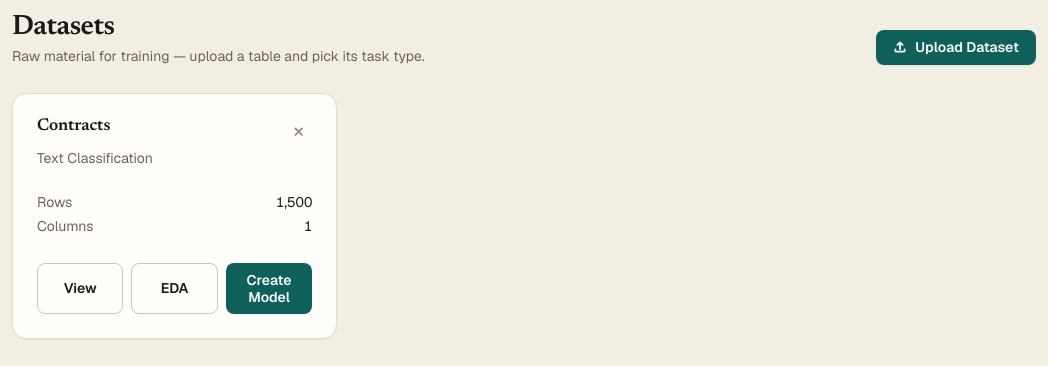
it: DatasetManager › deletes a dataset after inline confirmation
Click the button named "Delete dataset" at (298,132), box x1=284 y1=118 x2=312 y2=146
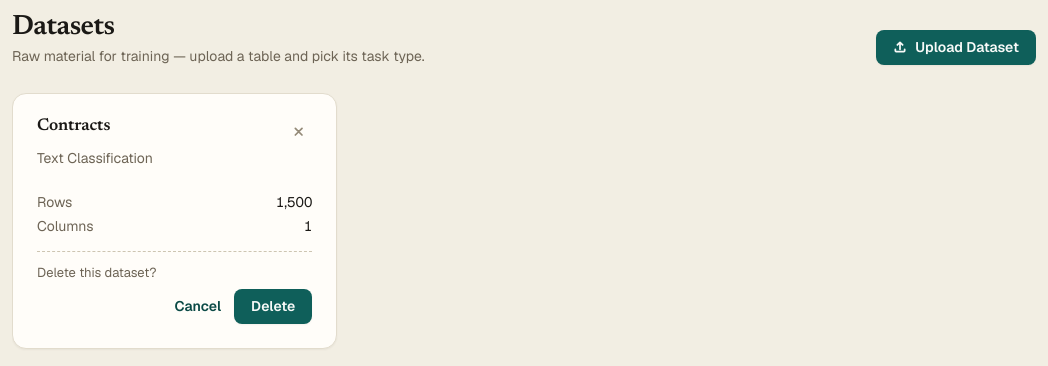
Click the button "Delete" at (273,306), box x1=234 y1=289 x2=312 y2=324
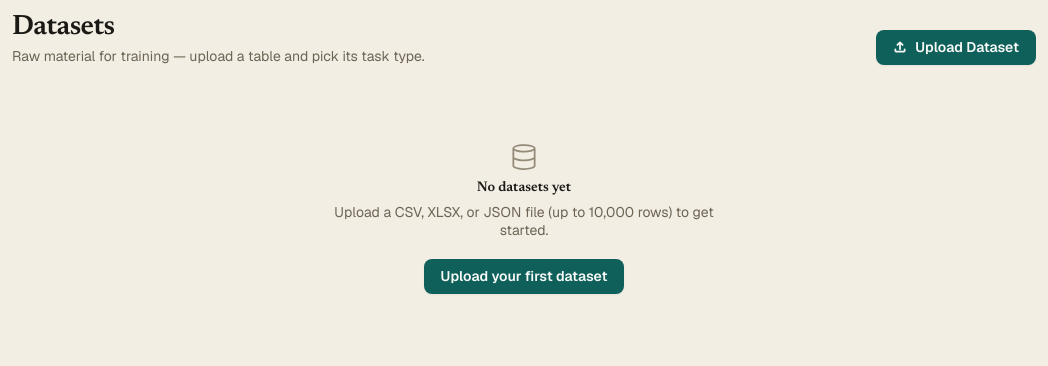
Expected: the text "No datasets yet" is shown, x1=477 y1=181 x2=571 y2=195
